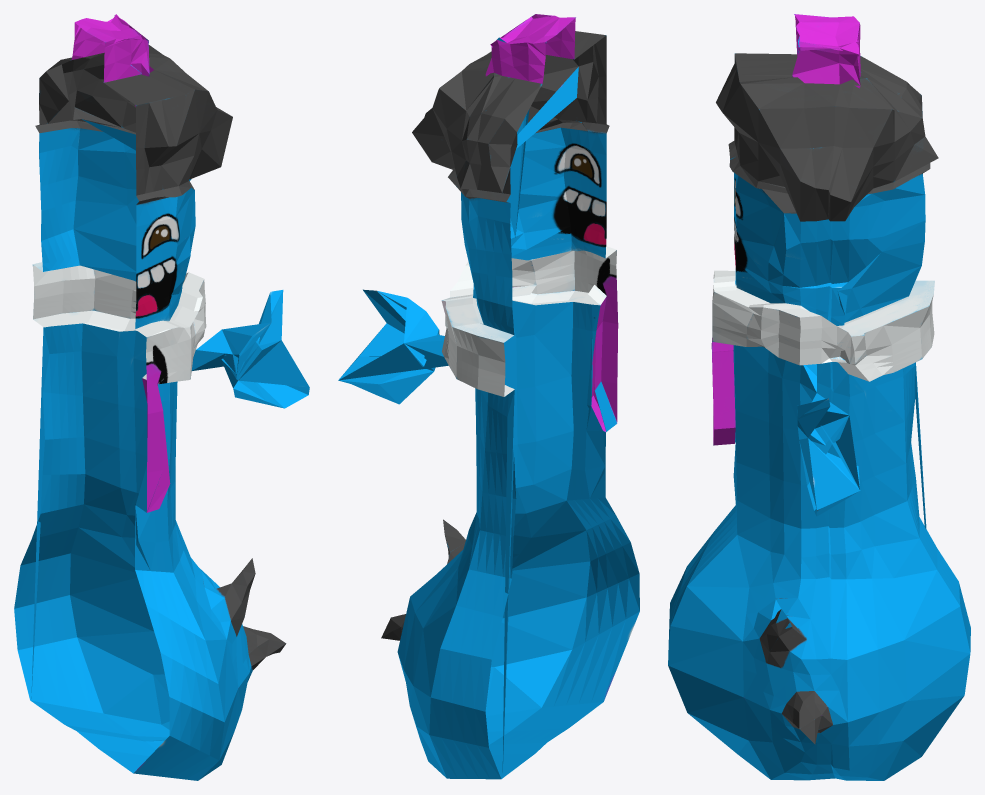
File: fraldo1.glb
3 renders of one model, left to right at view 1: azimuth 30°, elevation 25°; view 2: azimuth 150°, elevation 25°; view 3: azimuth 270°, elevation 25°, orthographic. The views are drawn at different scales.
Parts seen in each view (by area): view 1: Cube; view 2: Cube; view 3: Cube.
Boxes of the visible parts, box(x1,y1,x2,y2) form: Cube: box(14, 14, 309, 780); Cube: box(338, 14, 639, 779); Cube: box(668, 14, 970, 780).
Bounding box in the file's own units: 0.4004 × 1.31 × 0.5011.
1 material, 1 textured.
